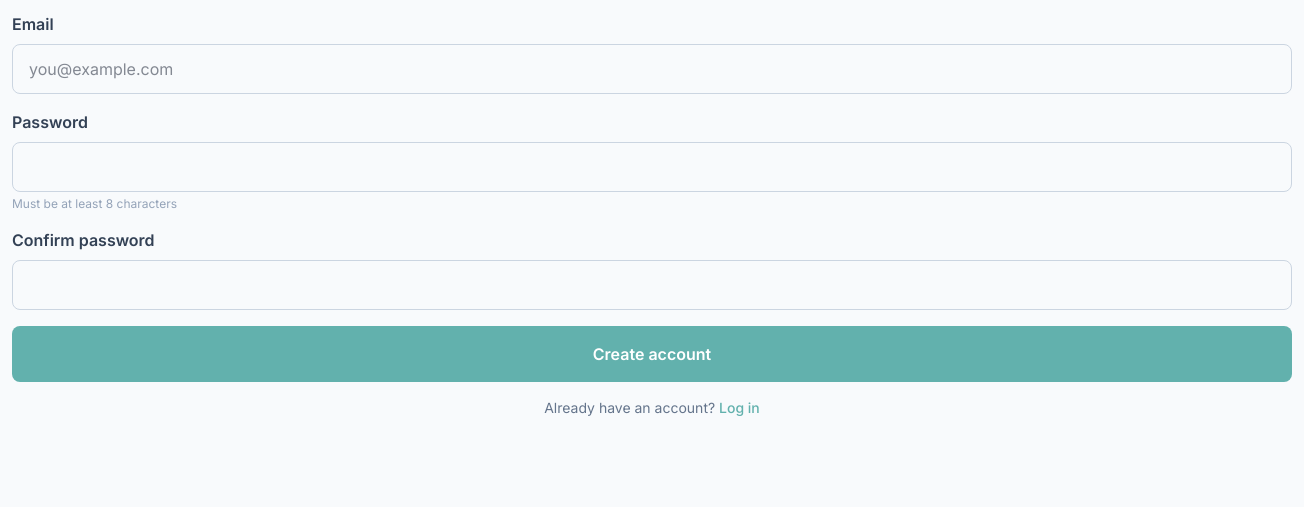
it: SignupForm › should show error on signUp failure
Type "test@example.com" into the field labelled "Email" at (652, 69), box [12,44,1292,94]
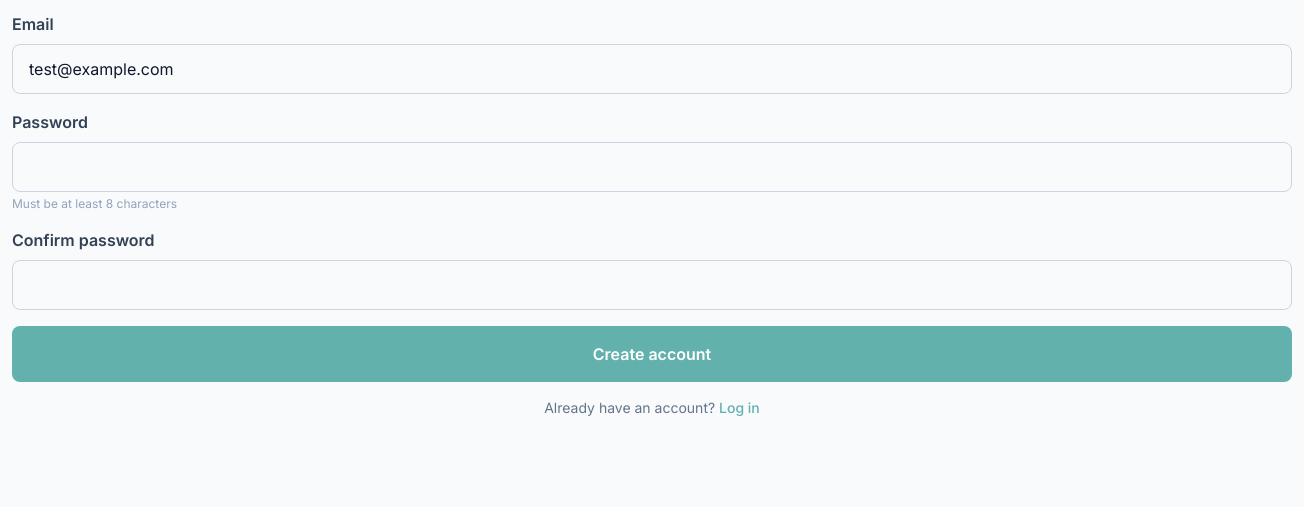
Type "password123" into the password field labelled "Password" at (652, 167), box [12,142,1292,192]
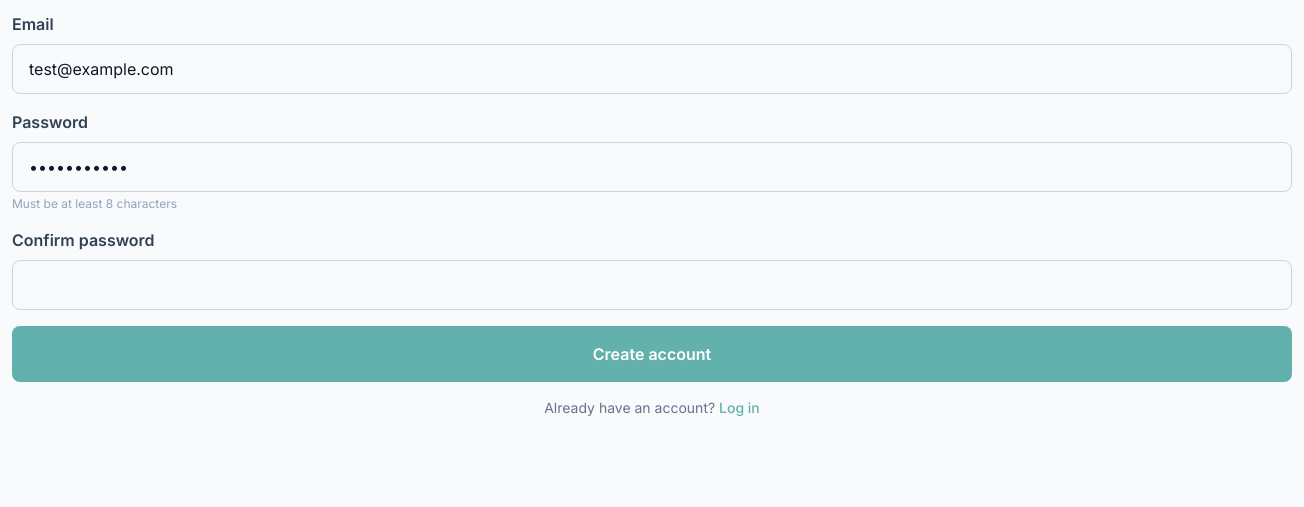
Type "password123" into the password field labelled "Confirm password" at (652, 285), box [12,260,1292,310]
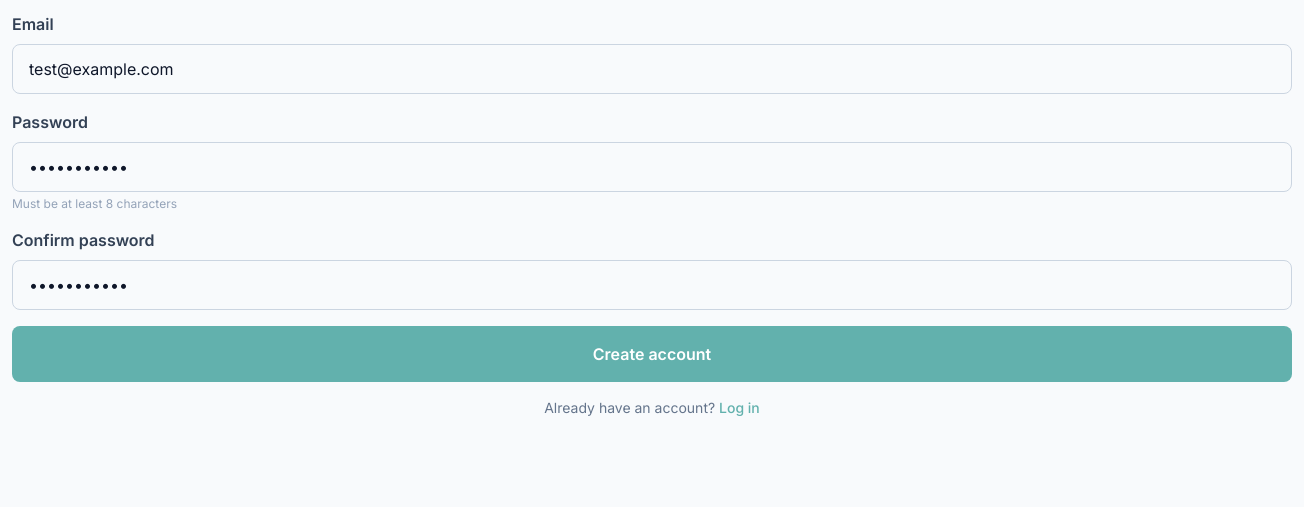
Click the button "Create account" at (652, 354), box [12,326,1292,382]
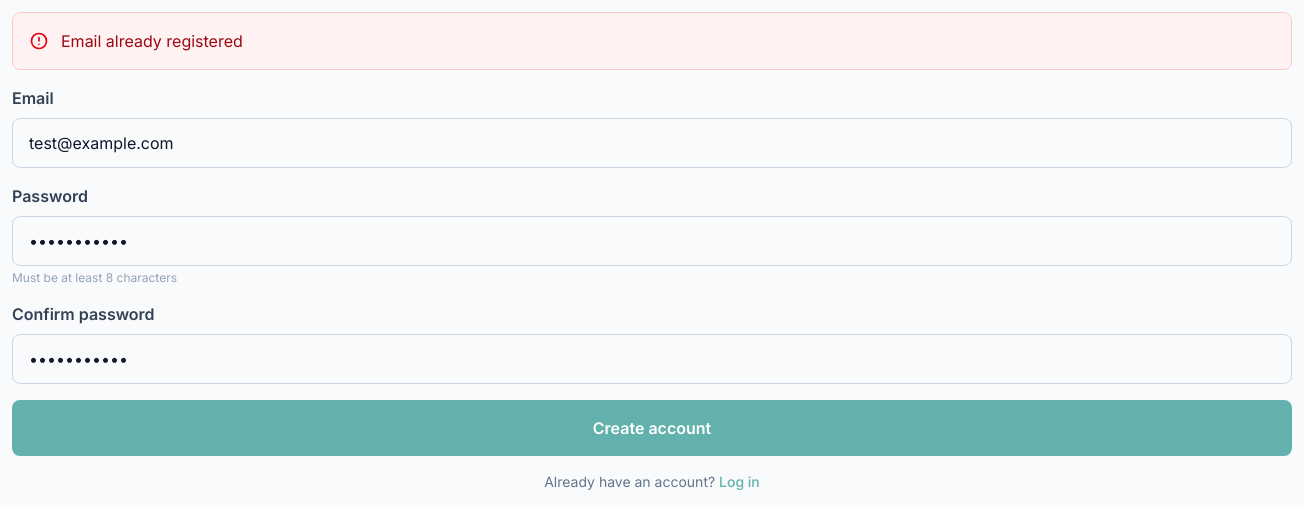
expect the text "Email already registered" is shown: met, box [61,29,243,53]
